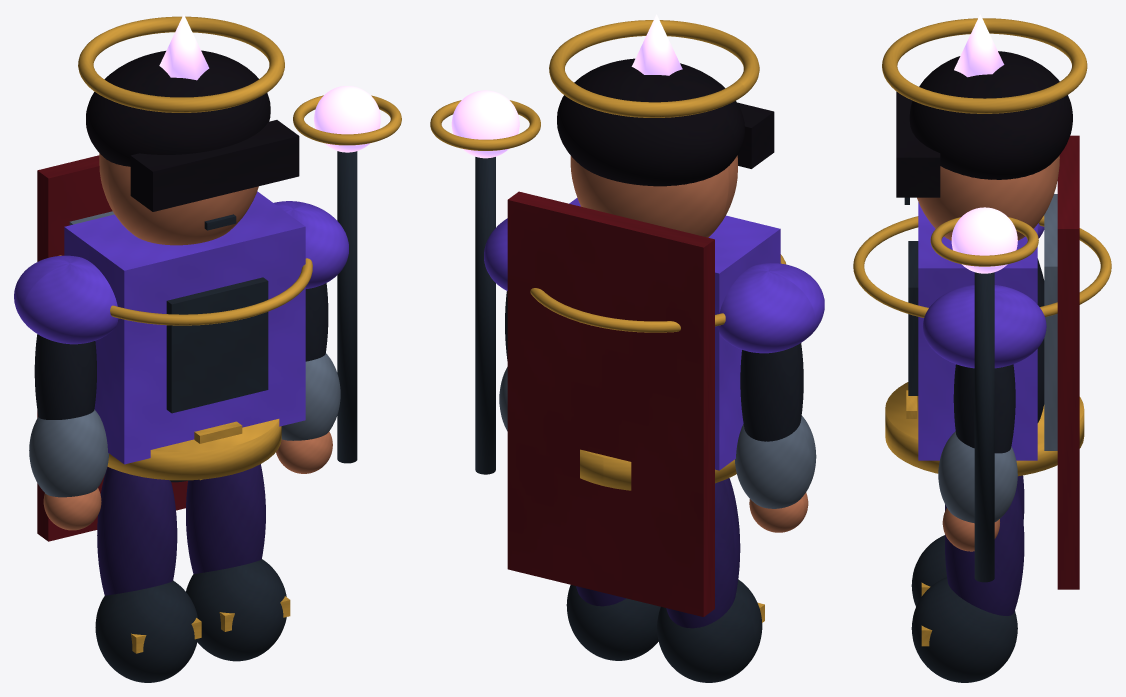
The model's file is Mastery.glb.
The picture shows the model from 3 angles, left to right: view 1: azimuth 30°, elevation 25°; view 2: azimuth 150°, elevation 25°; view 3: azimuth 270°, elevation 25°; orthographic projection. The views are drawn at different scales.
Visible parts, largest first — view 1: ChestPlate, Hair, ChestInset, HairFringe, Leg, Boot, Boot.001, Leg.001, Shoulder, CrownRing, Cape, Staff (+14 smaller); view 2: Cape, Hair, Shoulder, CrownRing, Head, ChestPlate, Boot, Staff, Arm, Gauntlet, Boot.001, Leg (+8 smaller); view 3: Hair, ChestPlate, Cape, Boot.001, CrownRing, Shoulder.001, Staff, Head, Leg.001, Gauntlet.001, WaistGuard, Arm.001 (+10 smaller).
Boxes of the visible parts, box(x1,y1,x2,y2) form: ChestPlate: box(64, 191, 305, 464); Hair: box(86, 50, 270, 166); ChestInset: box(166, 277, 268, 413); HairFringe: box(130, 120, 299, 211); Leg: box(97, 467, 177, 595); Boot: box(95, 580, 197, 682); Boot.001: box(186, 559, 286, 661); Leg.001: box(186, 464, 265, 573); Shoulder: box(14, 255, 118, 344); CrownRing: box(78, 16, 284, 112); Cape: box(37, 155, 187, 541); Staff: box(337, 151, 357, 463); Cape: box(507, 191, 714, 616); Hair: box(557, 58, 744, 186); Shoulder: box(717, 263, 824, 353); CrownRing: box(549, 20, 759, 117); Head: box(570, 155, 737, 237); ChestPlate: box(569, 198, 780, 470); Boot: box(657, 579, 762, 682); Staff: box(475, 157, 495, 474); Arm: box(740, 343, 803, 441); Gauntlet: box(735, 415, 816, 508); Boot.001: box(566, 585, 660, 660); Leg: box(666, 478, 740, 628); Hair: box(909, 51, 1072, 179); ChestPlate: box(918, 202, 1037, 460); Cape: box(1057, 135, 1079, 589); Boot.001: box(911, 577, 1017, 682); CrownRing: box(882, 18, 1087, 113); Shoulder.001: box(922, 285, 1046, 368); Staff: box(974, 272, 994, 582); Head: box(917, 155, 1059, 240); Leg.001: box(945, 486, 1024, 615); Gauntlet.001: box(938, 431, 1017, 523); WaistGuard: box(885, 382, 1084, 476); Arm.001: box(953, 364, 1015, 453).
Bounding box in the file's own units: 1.93 × 3.21 × 1.17.
12 materials, 9 textured.
